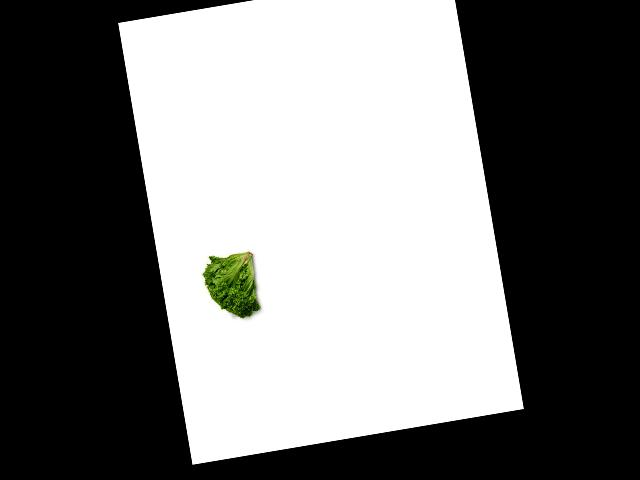lettuce: (196, 245, 269, 327)
